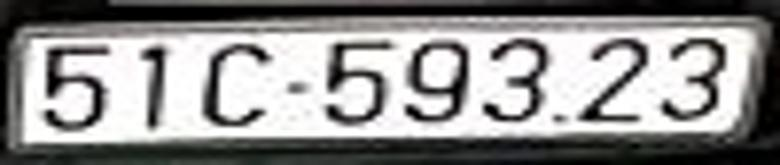-: (283, 74, 313, 100)
.: (551, 104, 572, 128)
1: (134, 44, 171, 133)
2: (575, 34, 652, 124)
3: (481, 34, 547, 128), (664, 32, 725, 120)
5: (36, 41, 116, 133), (323, 35, 390, 129)
9: (404, 35, 469, 127)
C: (201, 38, 268, 130)
